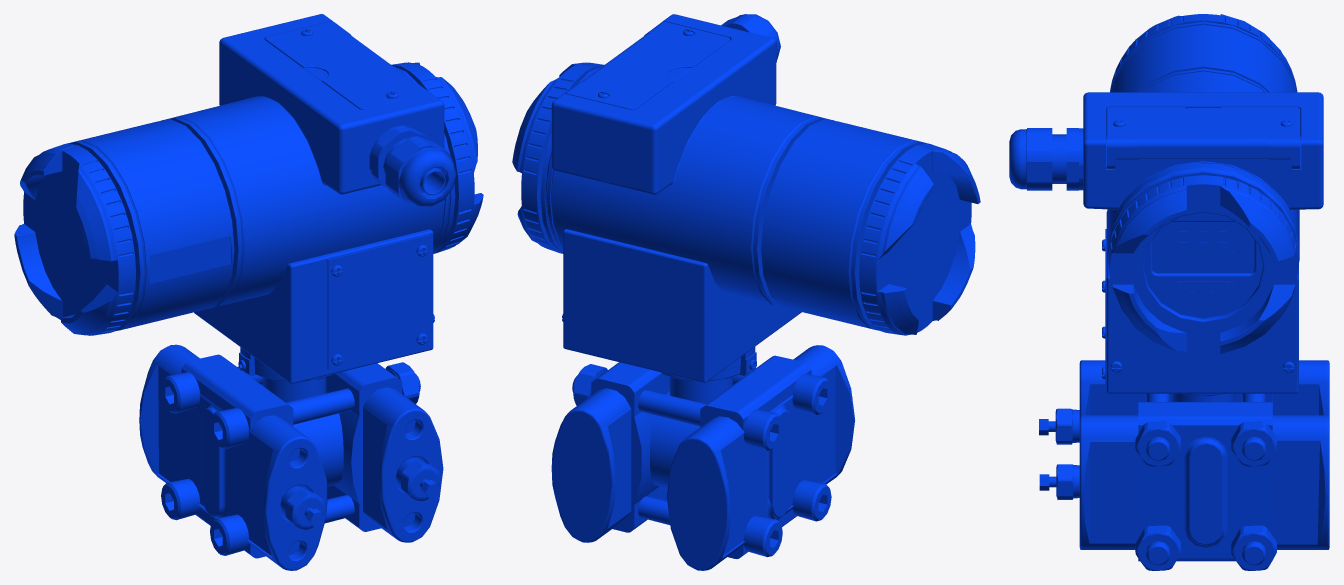
The model's file is vot.fbx.
3 renders of one model, left to right at view 1: azimuth 30°, elevation 25°; view 2: azimuth 150°, elevation 25°; view 3: azimuth 270°, elevation 25°, orthographic.
Parts seen in each view (by area): view 1: Differential Pressure Transmitter; view 2: Differential Pressure Transmitter; view 3: Differential Pressure Transmitter.
Part boxes in pixels (x1,y1,x2,y2): Differential Pressure Transmitter: (14,14,483,570); Differential Pressure Transmitter: (512,14,980,570); Differential Pressure Transmitter: (1009,14,1329,570).
Size of the model in its own units: 18.53 by 19.9 by 13.33.
